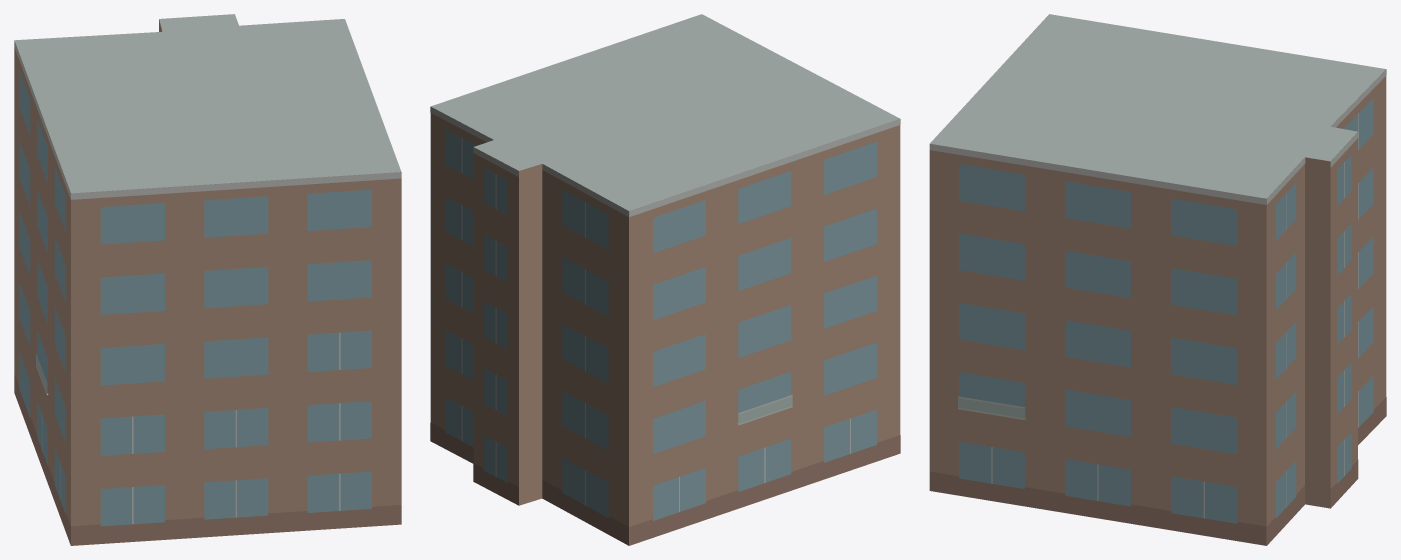
File: survey-upis-32749099.glb
3 views of the same model, side by side, from view 1: azimuth 30°, elevation 25°; view 2: azimuth 150°, elevation 25°; view 3: azimuth 270°, elevation 25° (orthographic). The views are drawn at different scales.
Visible parts, largest first — view 1: survey-upis-32749099.tmp; view 2: survey-upis-32749099.tmp; view 3: survey-upis-32749099.tmp.
Boxes of the visible parts, bbox=[...] form: survey-upis-32749099.tmp: bbox=[14, 14, 401, 545]; survey-upis-32749099.tmp: bbox=[430, 14, 900, 545]; survey-upis-32749099.tmp: bbox=[929, 14, 1386, 545].
Bounding box in the file's own units: 15.3 × 13.4 × 15.99.
